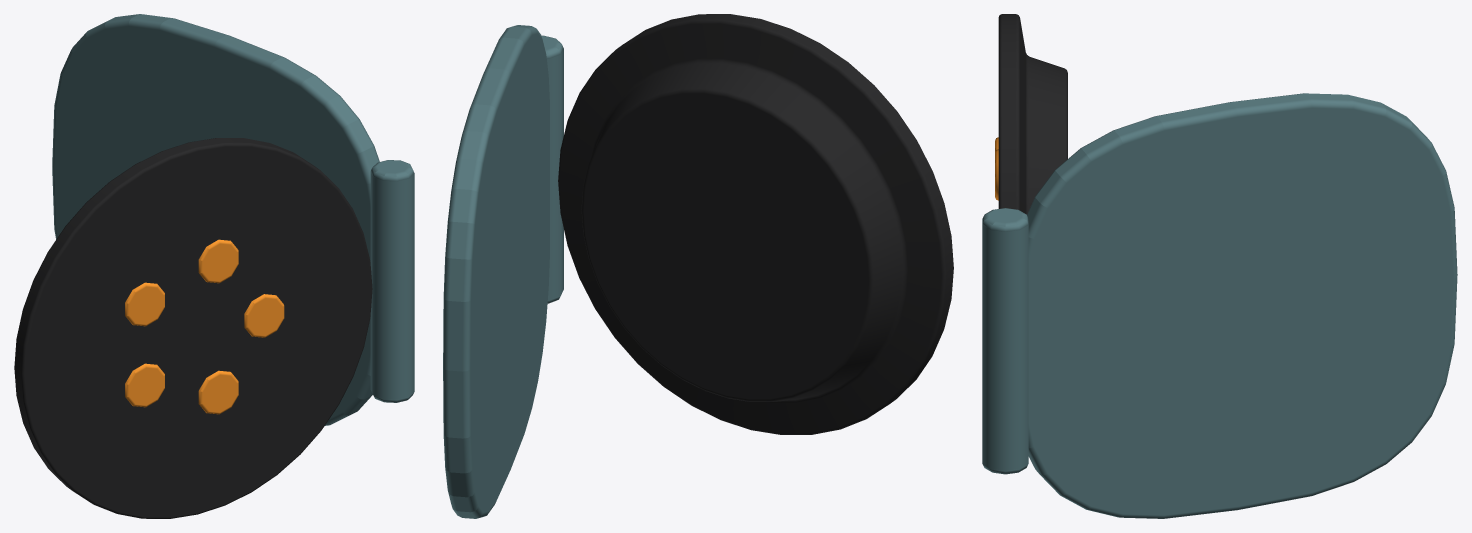
Rendered from bike_electric__charge_port.glb.
3 views of the same model, side by side, from view 1: azimuth 30°, elevation 25°; view 2: azimuth 150°, elevation 25°; view 3: azimuth 270°, elevation 25° (orthographic). The views are drawn at different scales.
Parts seen in each view (by area): view 1: electrical__charge_port, electrical__charge_port__flap; view 2: electrical__charge_port, electrical__charge_port__flap; view 3: electrical__charge_port__flap, electrical__charge_port.
Part boxes in pixels (x1=…): electrical__charge_port: x1=14, y1=138, x2=372, y2=518; electrical__charge_port__flap: x1=52, y1=14, x2=414, y2=425; electrical__charge_port: x1=558, y1=14, x2=953, y2=434; electrical__charge_port__flap: x1=443, y1=25, x2=563, y2=518; electrical__charge_port__flap: x1=982, y1=93, x2=1457, y2=518; electrical__charge_port: x1=995, y1=14, x2=1067, y2=214.
Size of the model in its own units: 7.15 by 6.4 by 6.85.
